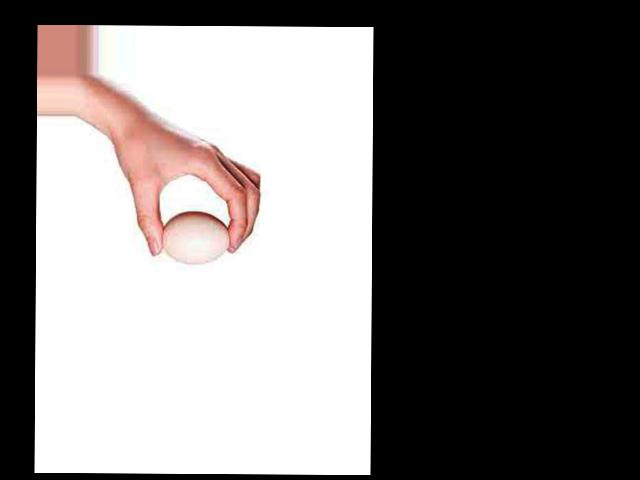egg: (160, 210, 230, 264)
